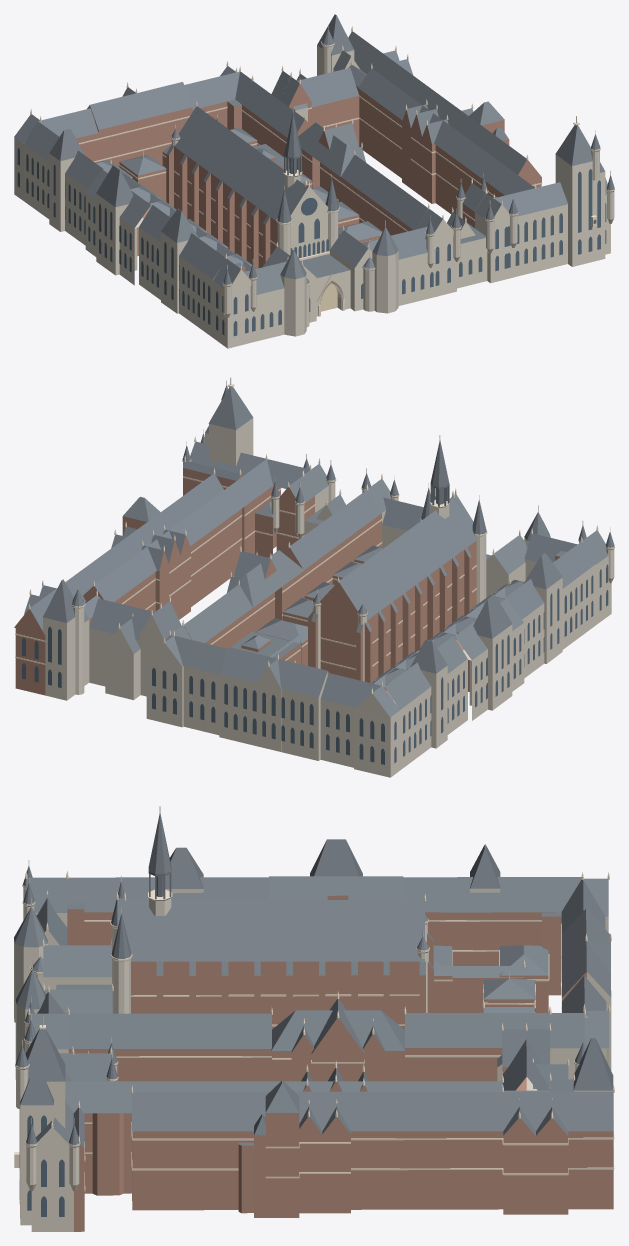
The model's file is london-royal-courts-of-justice.detail.glb.
3 renders of one model, top to bottom at view 1: azimuth 30°, elevation 25°; view 2: azimuth 150°, elevation 25°; view 3: azimuth 270°, elevation 25°, orthographic. The views are drawn at different scales.
Visible parts, largest first — view 1: Royal Courts of Justice; view 2: Royal Courts of Justice; view 3: Royal Courts of Justice.
Part boxes in pixels (x1=…): Royal Courts of Justice: x1=14, y1=14, x2=614, y2=348; Royal Courts of Justice: x1=14, y1=377, x2=614, y2=777; Royal Courts of Justice: x1=14, y1=806, x2=614, y2=1231.
Bounding box in the file's own units: 153 × 65 × 145.
